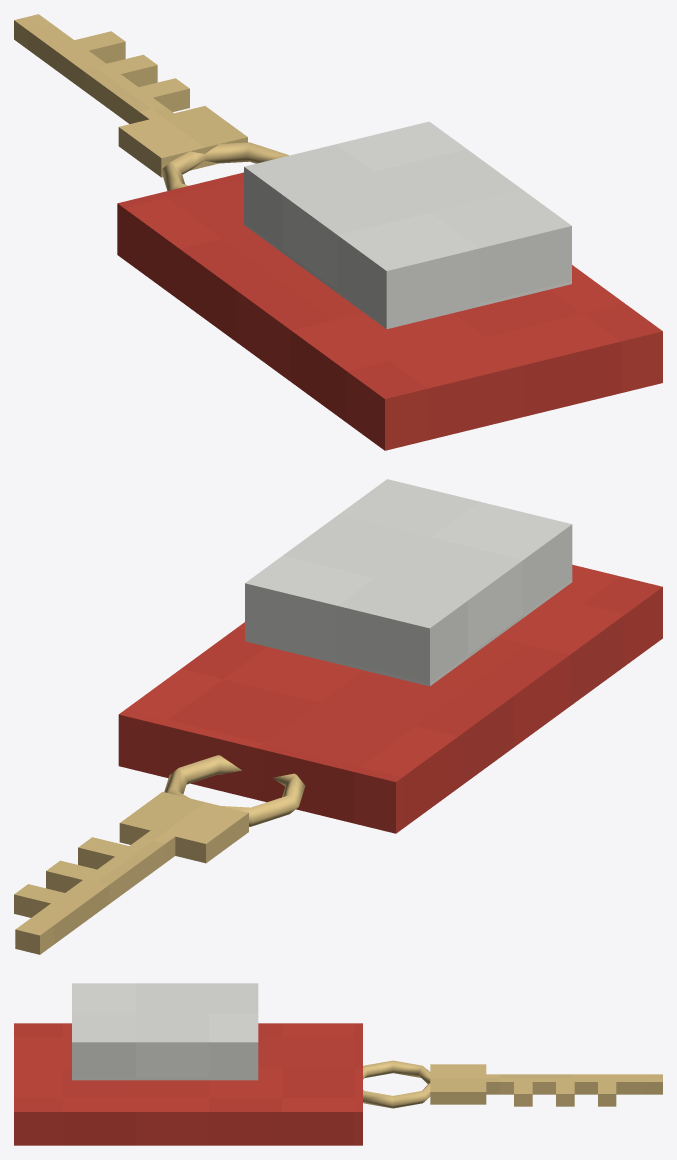
Rendered from item_room_key.glb.
The picture shows the model from 3 angles, top to bottom: view 1: azimuth 30°, elevation 25°; view 2: azimuth 150°, elevation 25°; view 3: azimuth 270°, elevation 25°; orthographic projection. The views are drawn at different scales.
Visible parts, largest first — view 1: key; view 2: key; view 3: key.
Part boxes in pixels (x1,y1,x2,y2): key: (14,14,662,450); key: (14,479,662,954); key: (14,983,662,1145).
Size of the model in its own units: 0.045 by 0.0217 by 0.1395.
4 materials, 4 textured.
